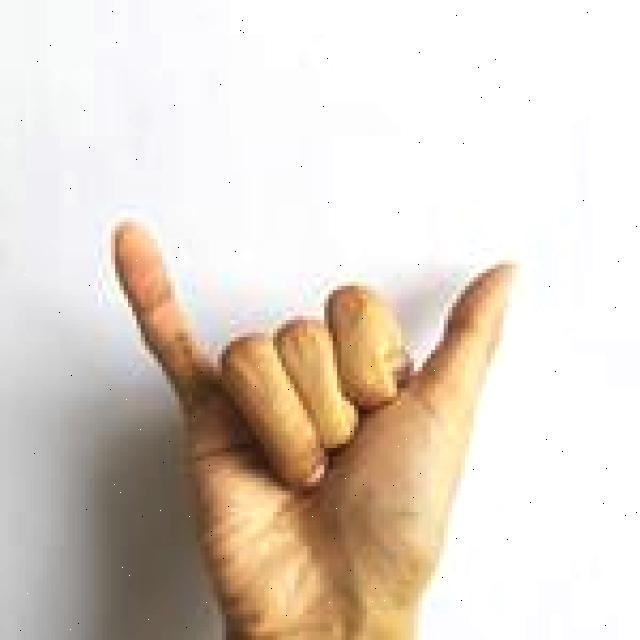Y: (95, 207, 532, 640)
